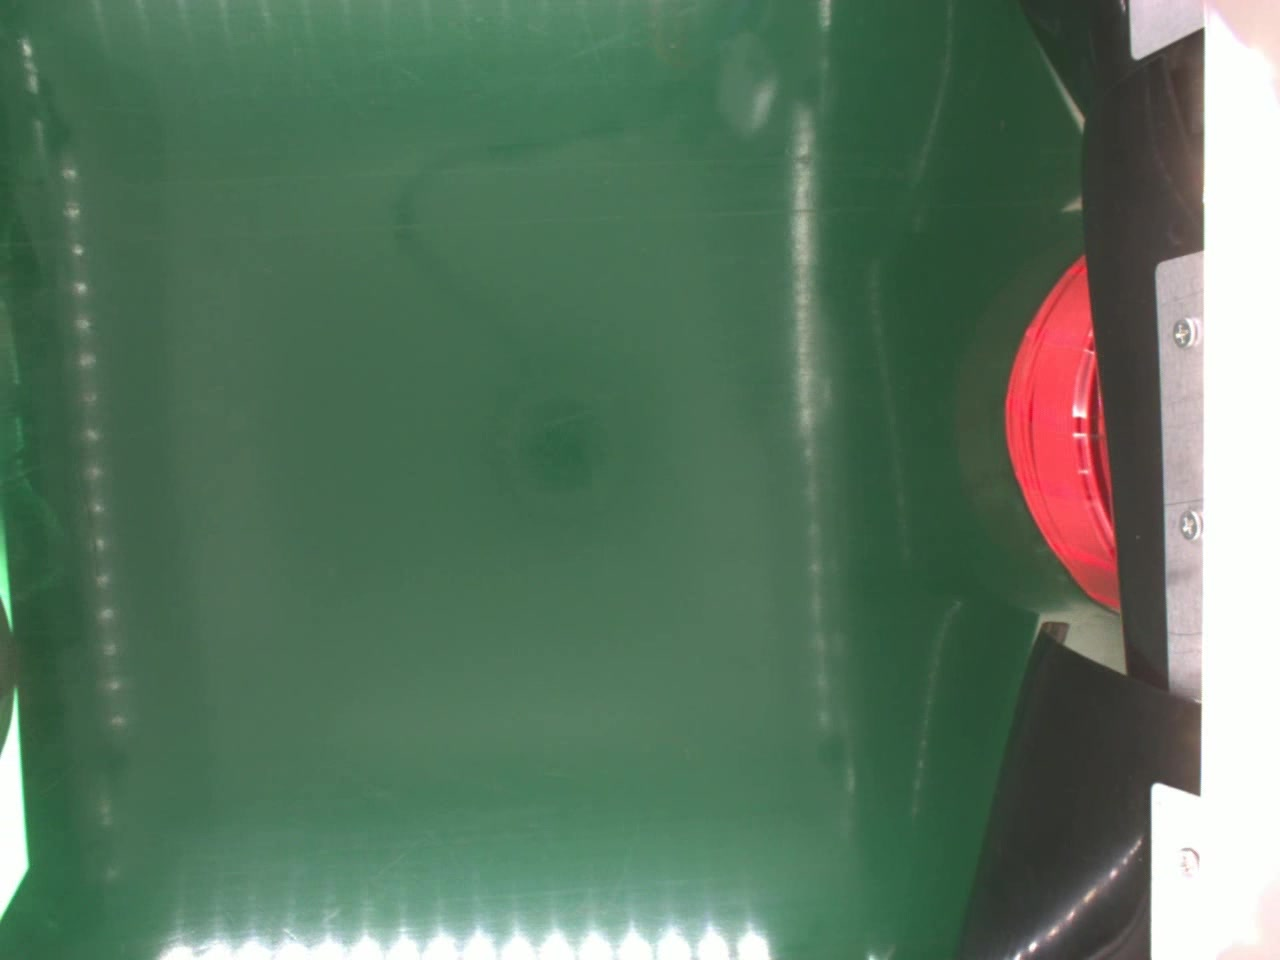red: (1001, 248, 1121, 622)
